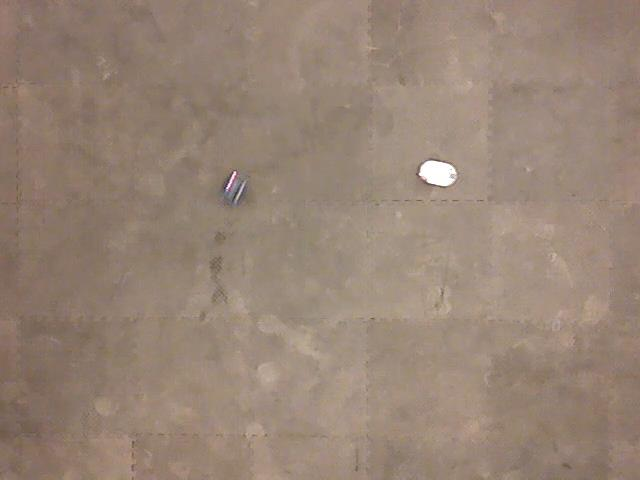Agent: (415, 158, 460, 188), (221, 169, 251, 207)
